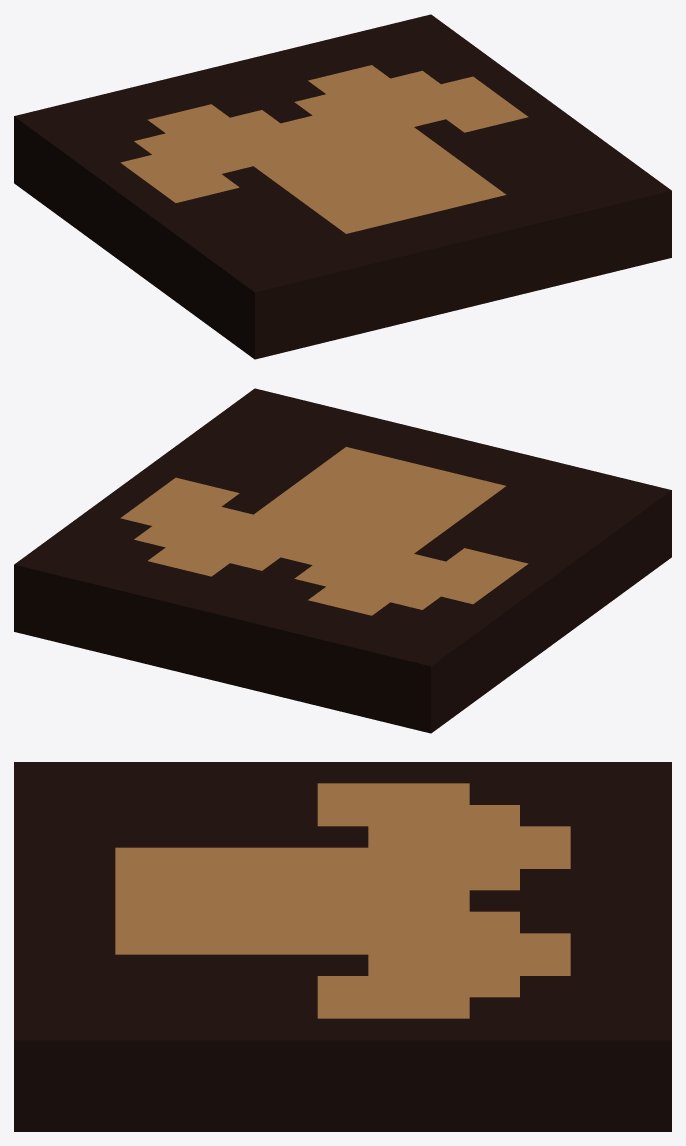
Rendered from bodyIcon.obj.
3 views of the same model, one above another, from view 1: azimuth 30°, elevation 25°; view 2: azimuth 150°, elevation 25°; view 3: azimuth 270°, elevation 25° (orthographic). The views are drawn at different scales.
Bounding box in the file's own units: 1.3 × 0.2 × 1.3.
Materials: 1 (1 with a texture image).
